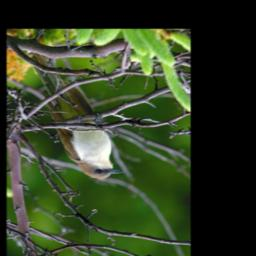Cuckoo: (25, 49, 119, 181)
